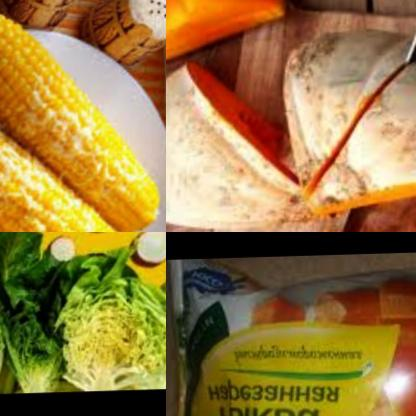corn: (0, 5, 166, 232), (0, 79, 152, 232), (0, 156, 129, 232)
pumpkin: (279, 13, 416, 232), (166, 55, 313, 232), (326, 261, 416, 416), (166, 0, 307, 70), (248, 291, 308, 331)
salad: (46, 237, 166, 393), (1, 240, 77, 395)
